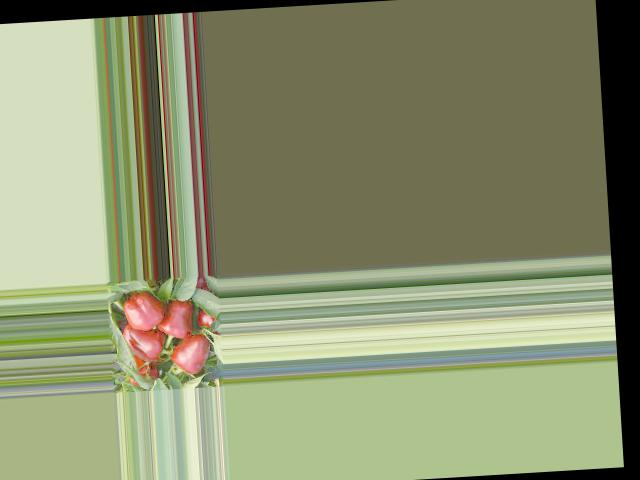bell_pepper: (119, 291, 174, 332)
